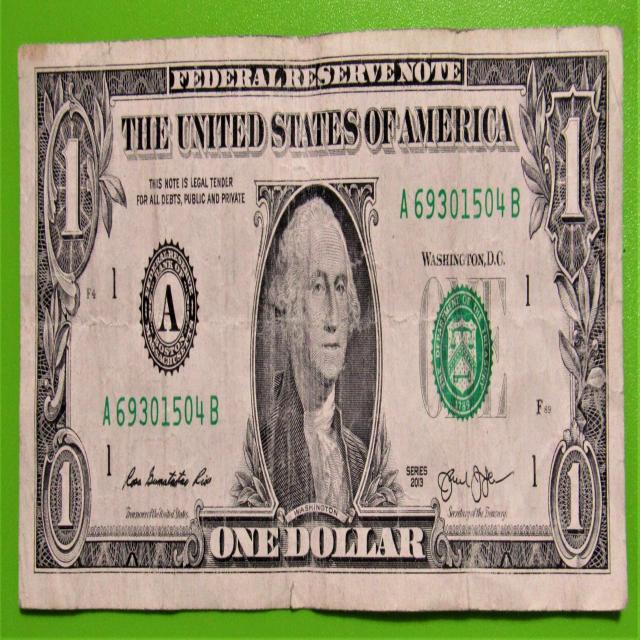1-Front: (20, 48, 627, 613)
